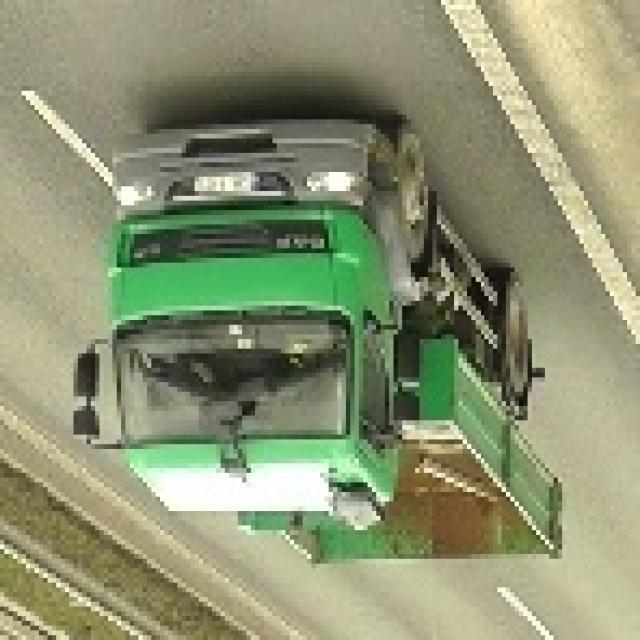Truck: (74, 114, 562, 578)
